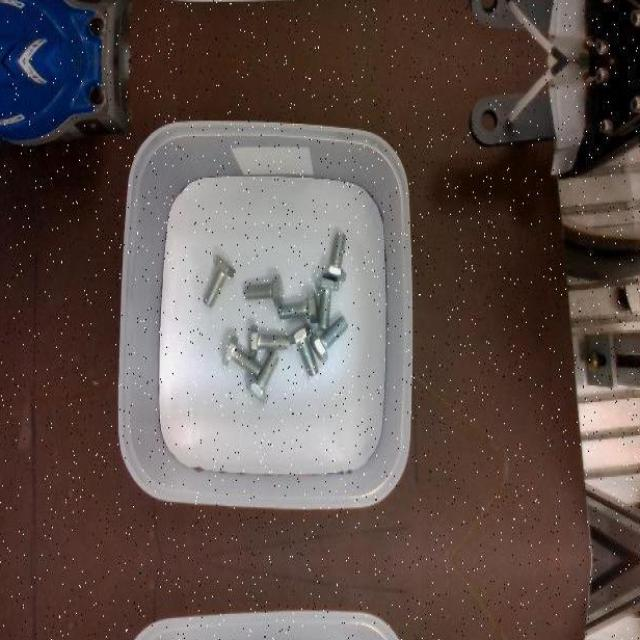screw: (310, 315, 349, 362), (248, 348, 280, 404), (222, 334, 262, 376), (289, 323, 319, 377), (278, 290, 319, 323), (244, 272, 284, 304), (249, 326, 289, 358), (315, 277, 339, 330), (322, 230, 347, 280)
